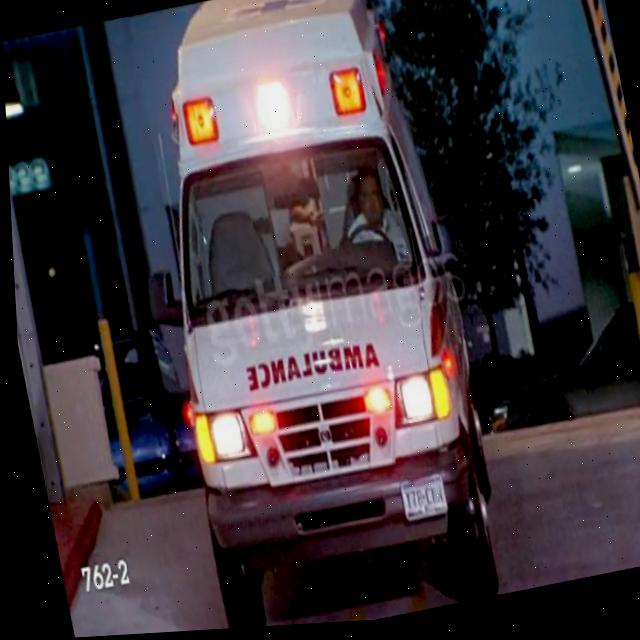emergency: (101, 0, 510, 635)
